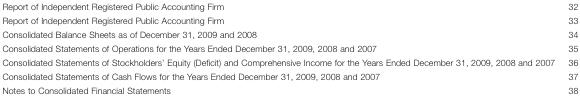table: (1, 0, 577, 94)
table column: (1, 0, 560, 94), (560, 0, 577, 94)
table row: (1, 12, 577, 26), (1, 26, 577, 40), (1, 40, 577, 54), (1, 54, 577, 68), (1, 68, 577, 82), (1, 0, 577, 12), (1, 82, 577, 94)
